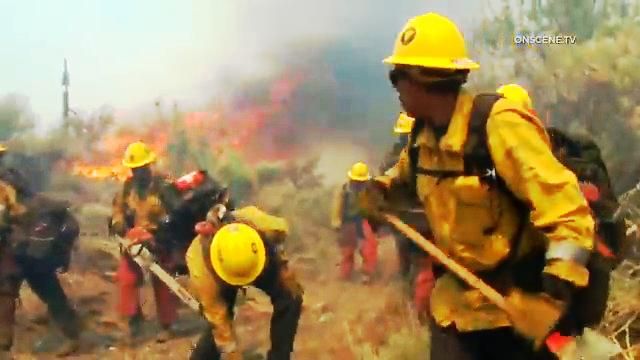smoke: (251, 18, 357, 134)
